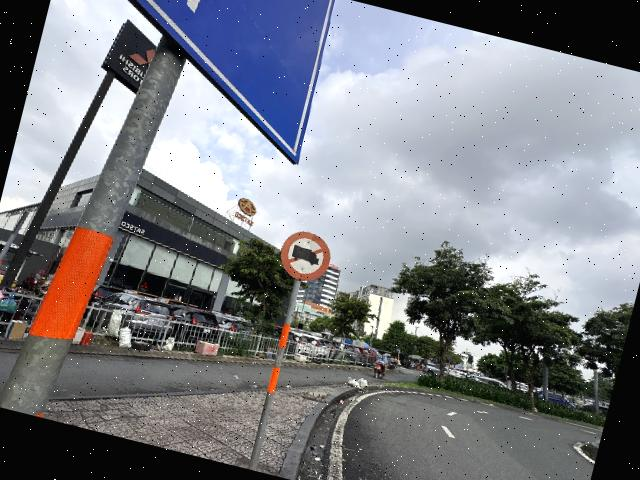cam-xe-tai: (276, 227, 334, 286)
